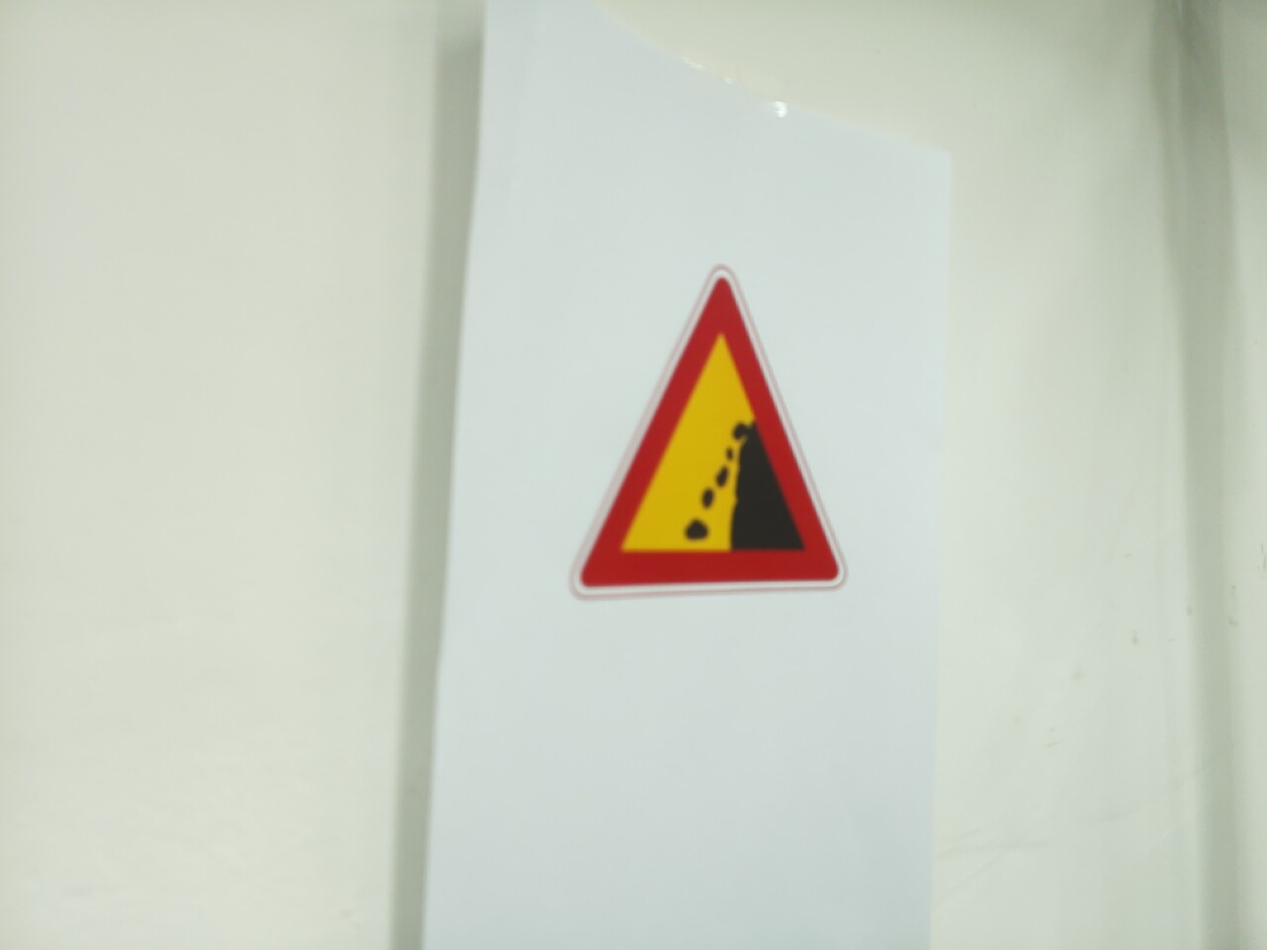falling_rocks: (571, 268, 847, 597)
